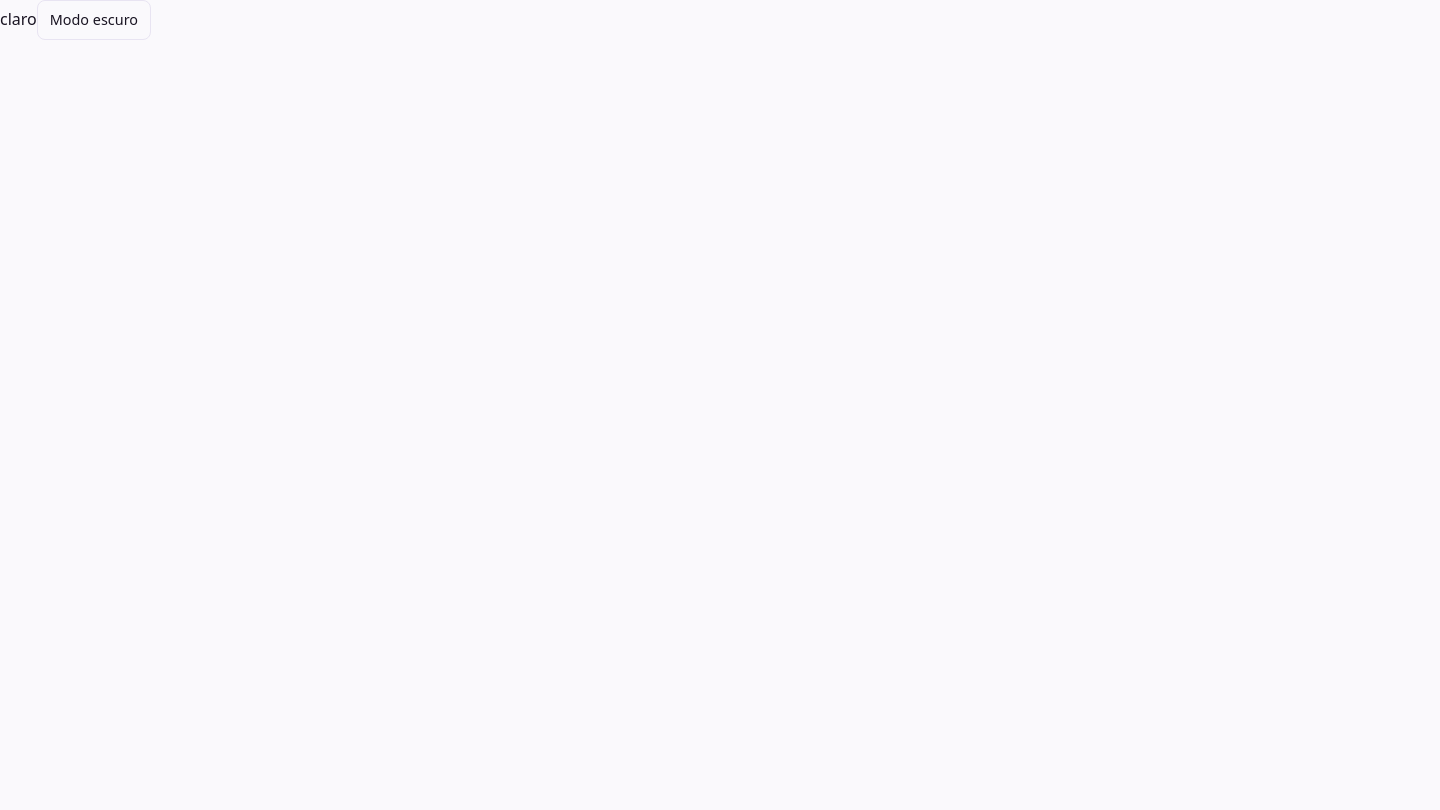
modo claro e escuro › a pessoa pode escolher o modo escuro e a escolha fica guardada
The width and height of the screenshot is (1440, 810).
Click the button "Modo escuro" at {"x": 94, "y": 20}, box [37,0,151,40]
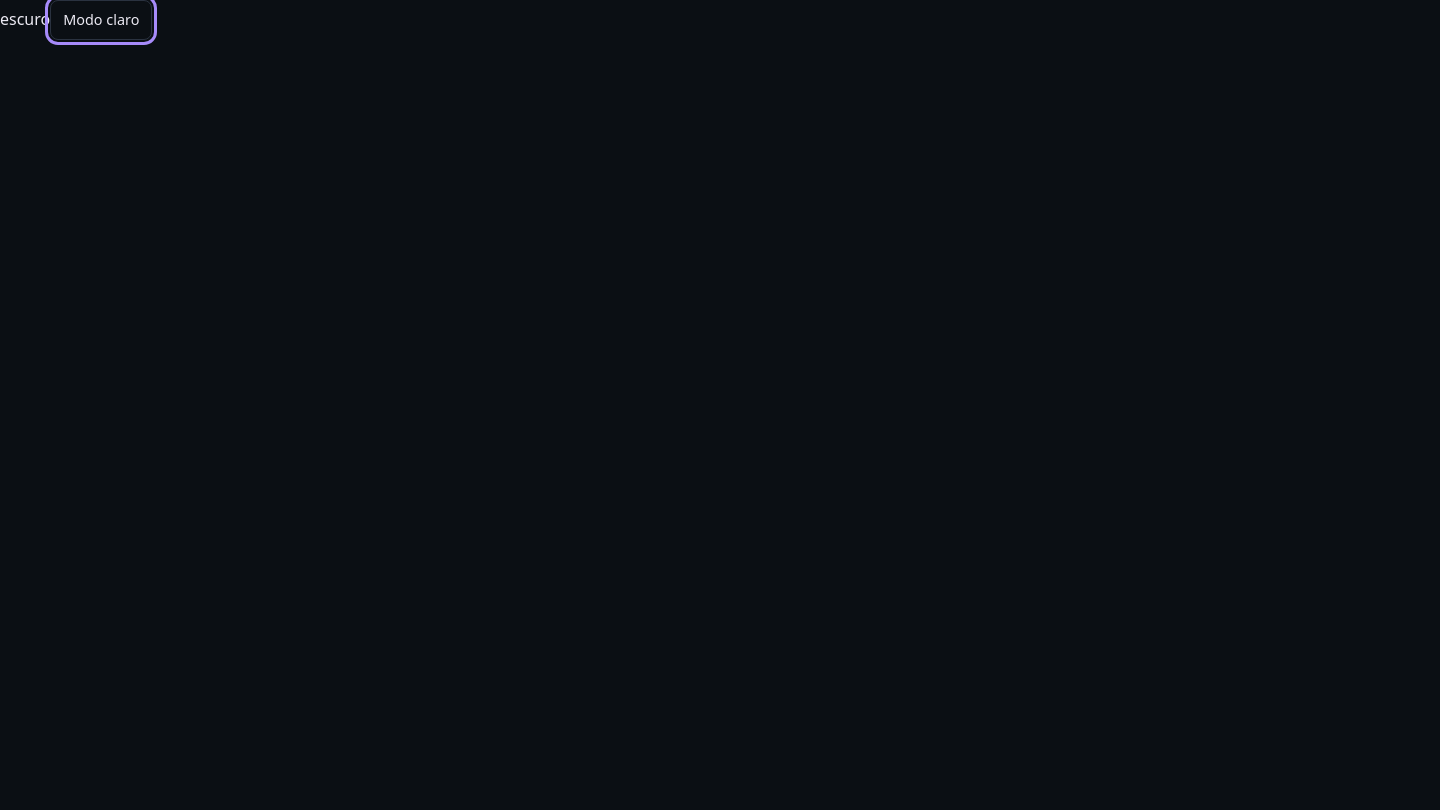
expect the text with test id "tema-atual" reads "escuro": met, box [0,8,50,30]
